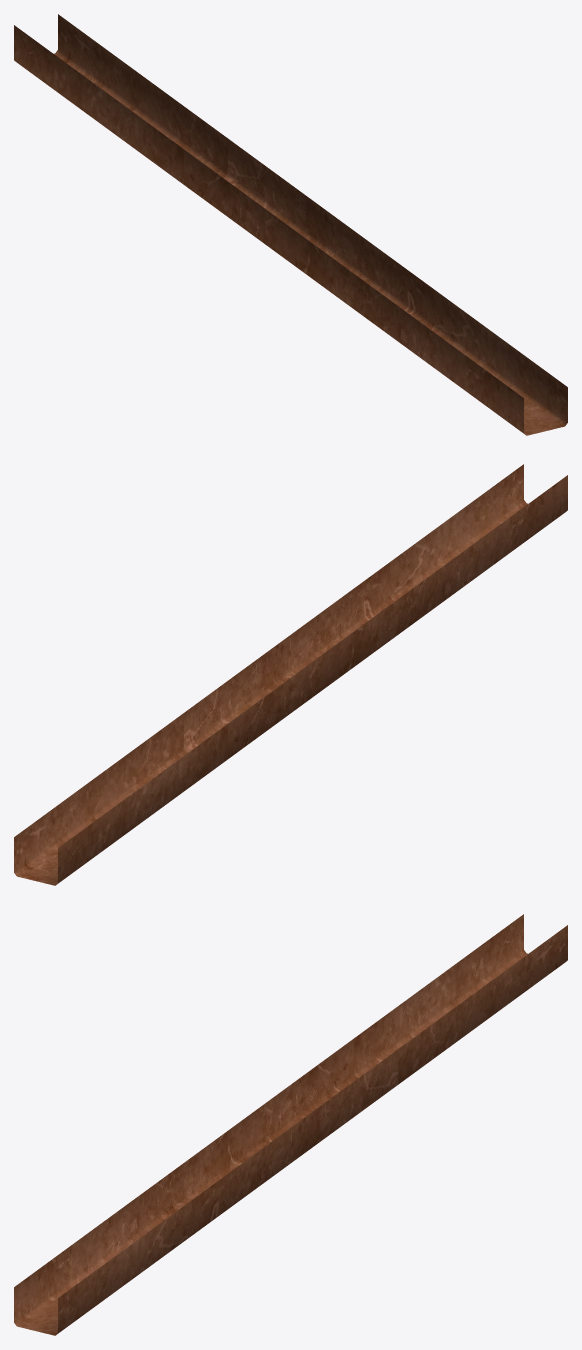
Rendered from ceiling_stones_01.glb.
3 renders of one model, top to bottom at view 1: azimuth 30°, elevation 25°; view 2: azimuth 150°, elevation 25°; view 3: azimuth 330°, elevation 25°, orthographic.
Parts seen in each view (by area): view 1: ceiling_stones_01; view 2: ceiling_stones_01; view 3: ceiling_stones_01.
Part boxes in pixels (x1,y1,x2,y2): ceiling_stones_01: [14, 14, 567, 435]; ceiling_stones_01: [14, 464, 567, 885]; ceiling_stones_01: [14, 914, 567, 1335].
Bounding box in the file's own units: 0.3 × 0.25 × 6.
1 material, 1 textured.
